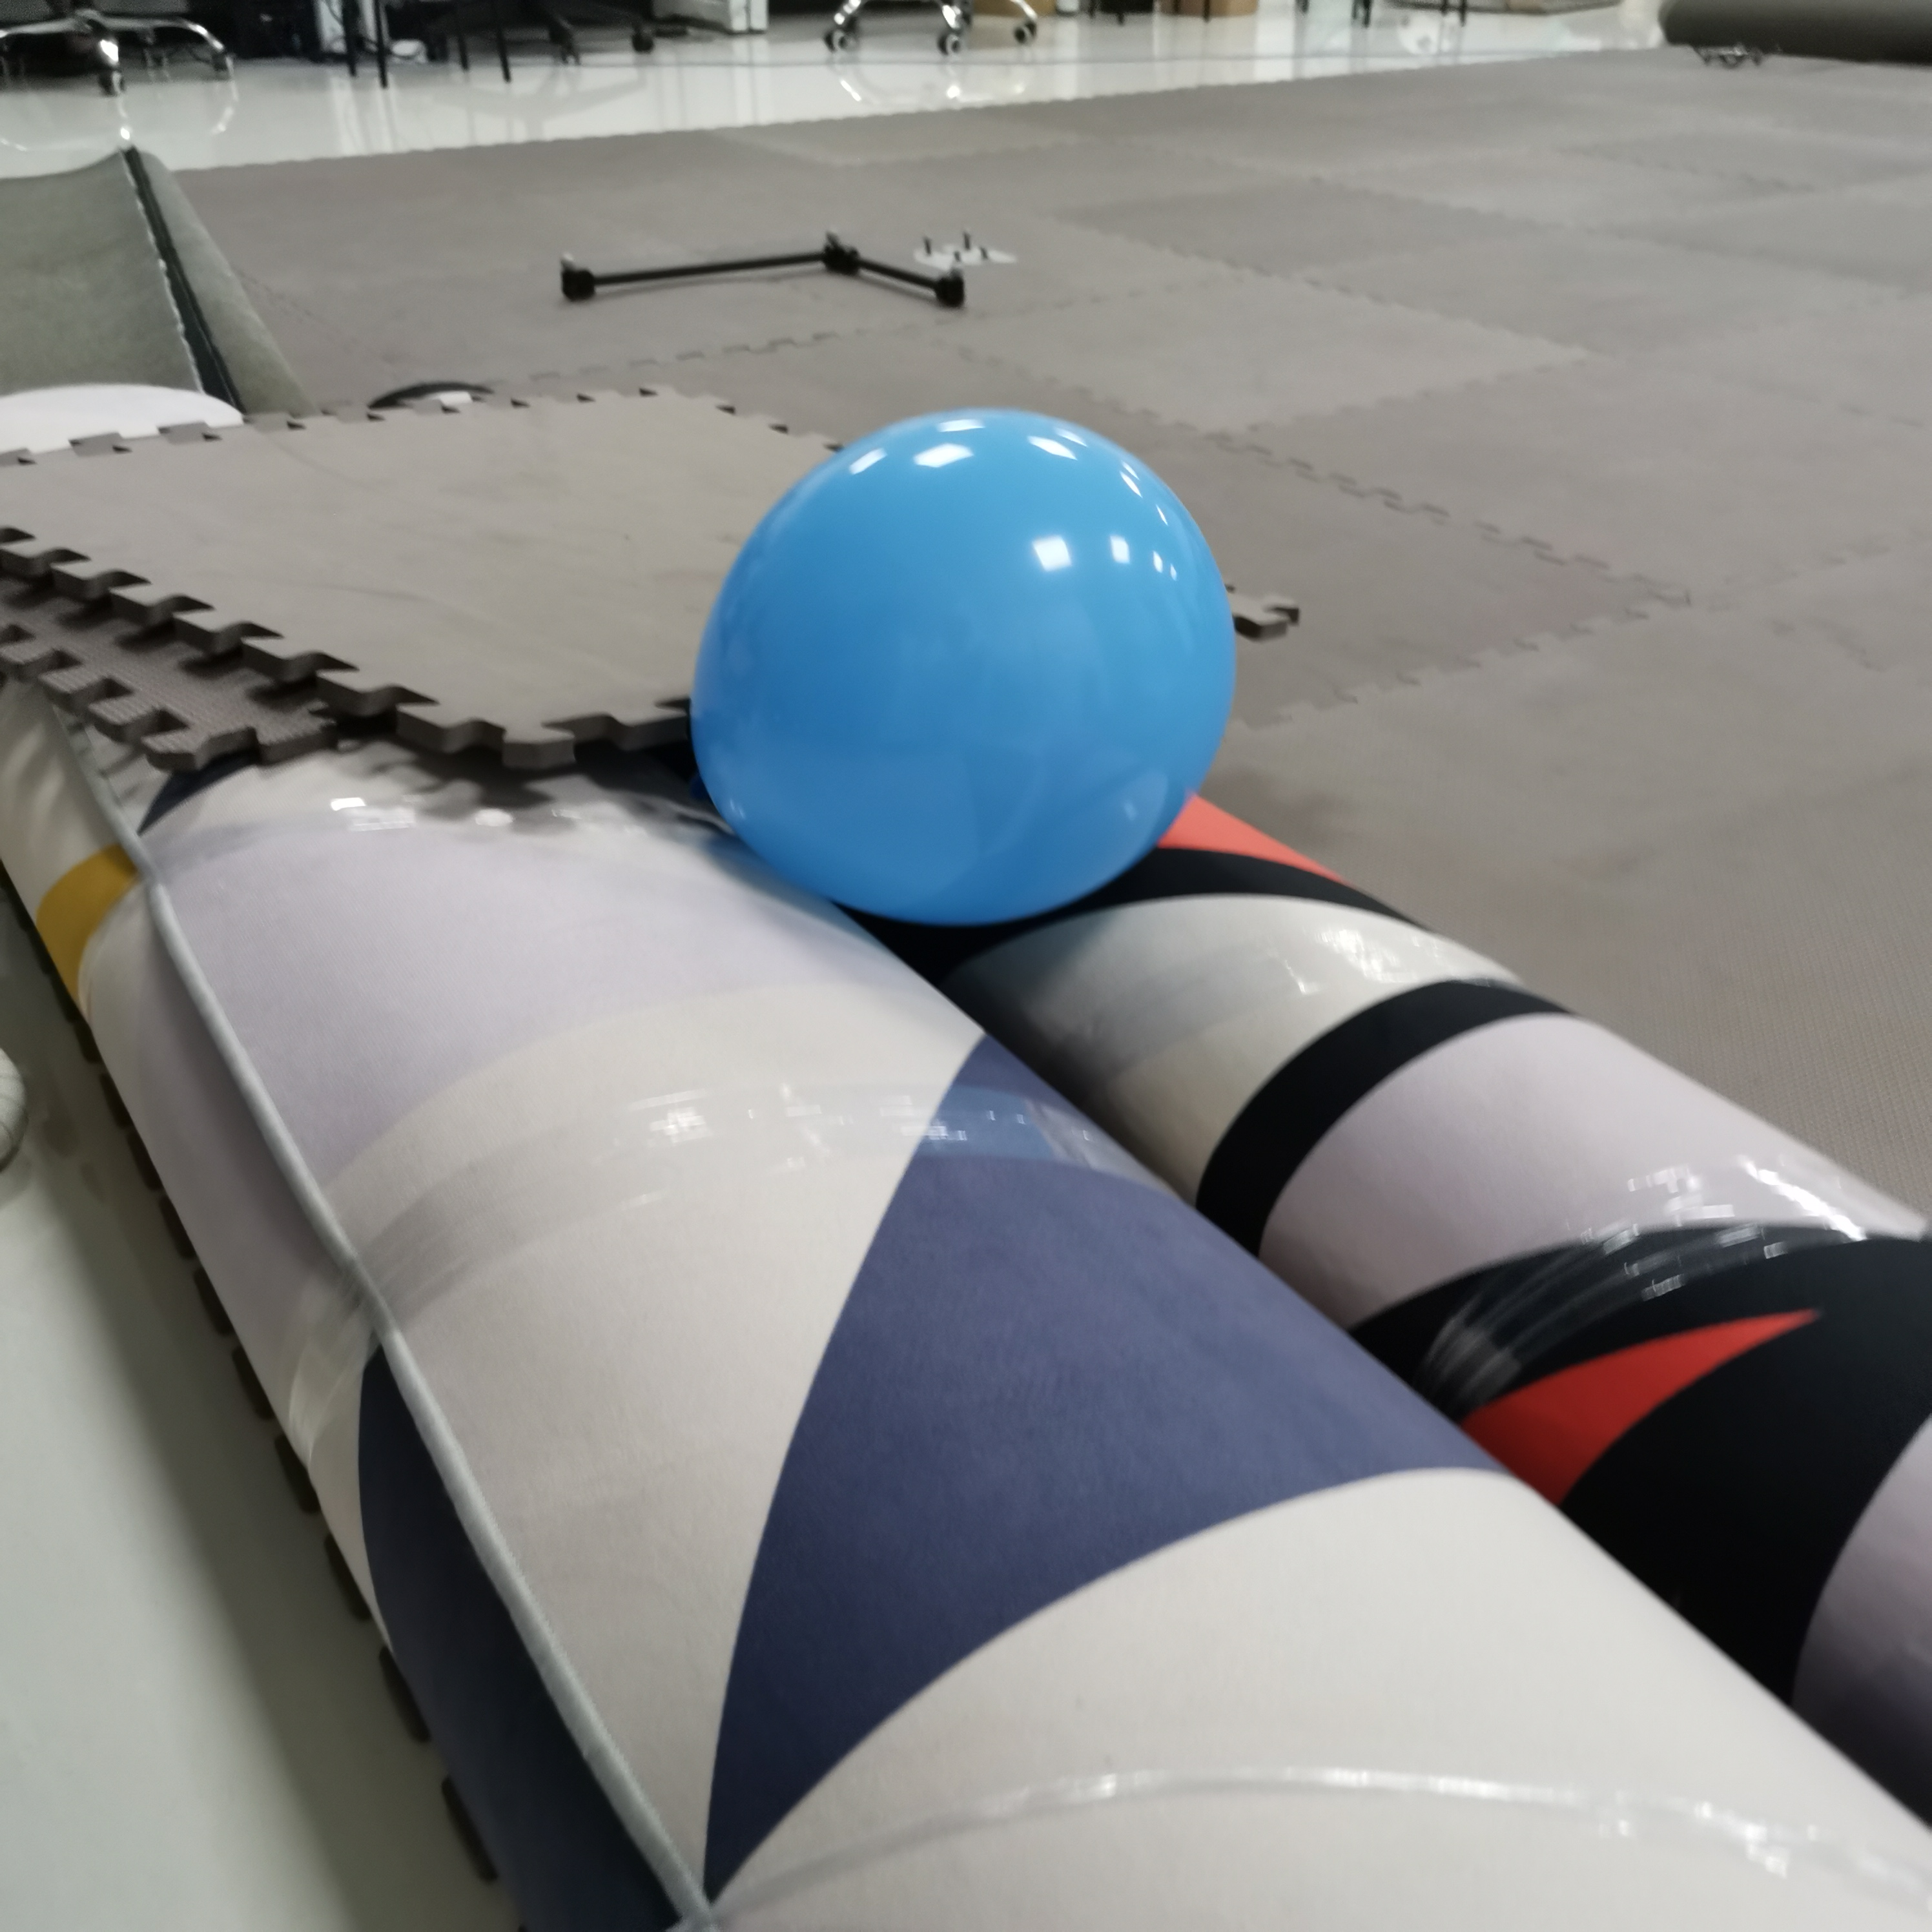balloon: (686, 407, 1235, 924)
